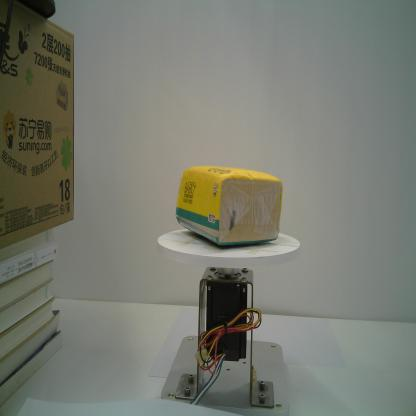Tissue: (173, 164, 285, 250)
